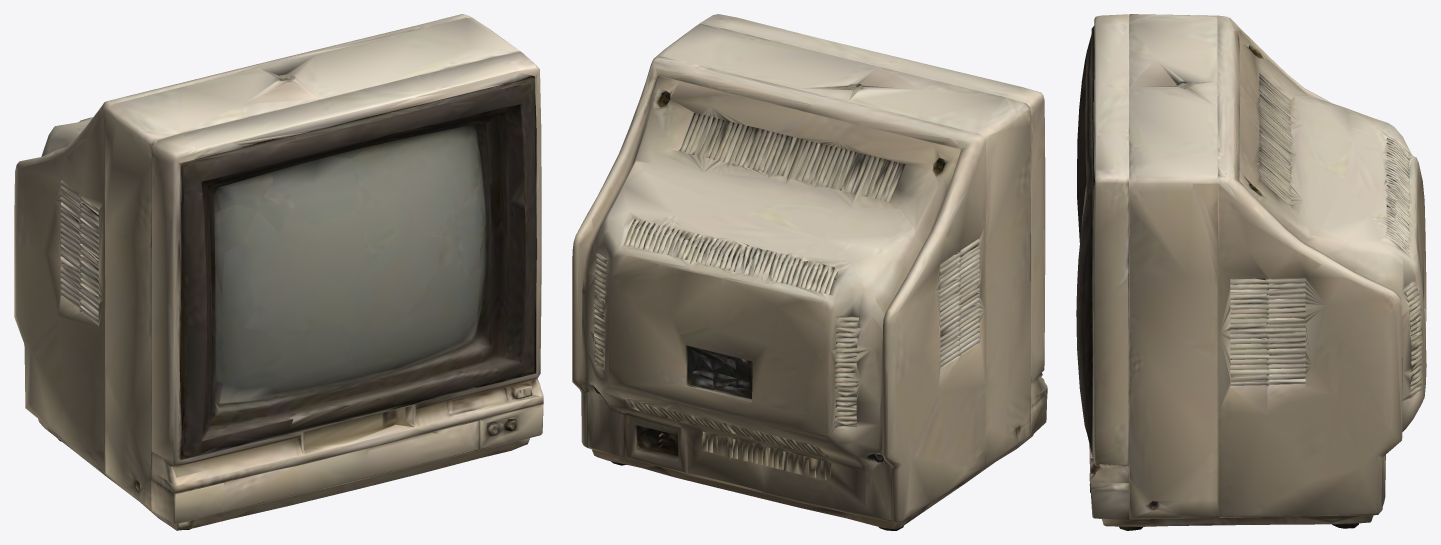
File: crt03.glb
3 renders of one model, left to right at view 1: azimuth 30°, elevation 25°; view 2: azimuth 150°, elevation 25°; view 3: azimuth 270°, elevation 25°, orthographic. The views are drawn at different scales.
Visible parts, largest first — view 1: tripo_node_bc17e6d3-547b-4a77-985e-d9854c593b9f; view 2: tripo_node_bc17e6d3-547b-4a77-985e-d9854c593b9f; view 3: tripo_node_bc17e6d3-547b-4a77-985e-d9854c593b9f.
Boxes of the visible parts, <box> form: tripo_node_bc17e6d3-547b-4a77-985e-d9854c593b9f: <box>14,14,543,530</box>; tripo_node_bc17e6d3-547b-4a77-985e-d9854c593b9f: <box>572,14,1047,530</box>; tripo_node_bc17e6d3-547b-4a77-985e-d9854c593b9f: <box>1076,14,1426,530</box>.
Bounding box in the file's own units: 0.9789 × 0.9812 × 0.8602.
Materials: 1 (1 with a texture image).
